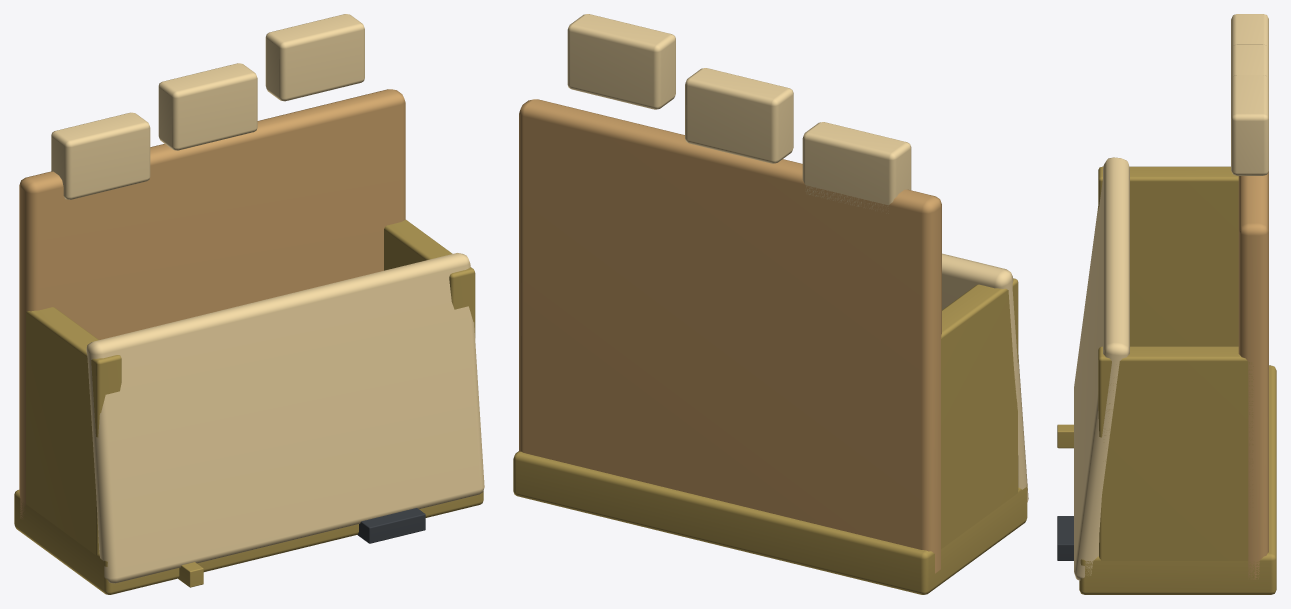
File: pcv_folder_fan_pocket.glb
3 renders of one model, left to right at view 1: azimuth 30°, elevation 25°; view 2: azimuth 150°, elevation 25°; view 3: azimuth 270°, elevation 25°, orthographic. The views are drawn at different scales.
Visible parts, largest first — view 1: pcv_folder_fan_pocket.open_front_pocket, pcv_folder_fan_pocket.folder_back, pcv_folder_fan_pocket.pocket_side, pcv_folder_fan_pocket.separate_stepped_tab.001, pcv_folder_fan_pocket.separate_stepped_tab.002, pcv_folder_fan_pocket.separate_stepped_tab, pcv_folder_fan_pocket.hollow_folder_foot, pcv_folder_fan_pocket.pocket_side.001, pcv_folder_fan_pocket.ordinary_telltale_offset_seam; view 2: pcv_folder_fan_pocket.folder_back, pcv_folder_fan_pocket.hollow_folder_foot, pcv_folder_fan_pocket.pocket_side, pcv_folder_fan_pocket.separate_stepped_tab.001, pcv_folder_fan_pocket.separate_stepped_tab.002, pcv_folder_fan_pocket.separate_stepped_tab, pcv_folder_fan_pocket.open_front_pocket; view 3: pcv_folder_fan_pocket.pocket_side.001, pcv_folder_fan_pocket.pocket_side, pcv_folder_fan_pocket.open_front_pocket, pcv_folder_fan_pocket.folder_back, pcv_folder_fan_pocket.hollow_folder_foot, pcv_folder_fan_pocket.separate_stepped_tab.002, pcv_folder_fan_pocket.separate_stepped_tab, pcv_folder_fan_pocket.separate_stepped_tab.001, pcv_folder_fan_pocket.ordinary_telltale_offset_seam, pcv_folder_fan_pocket.ordinary_telltale_contact_notch.
Part boxes in pixels (box(x1,y1,x2,y2)): pcv_folder_fan_pocket.open_front_pocket: box(86, 253, 484, 583); pcv_folder_fan_pocket.folder_back: box(19, 89, 405, 519); pcv_folder_fan_pocket.pocket_side: box(26, 307, 121, 554); pcv_folder_fan_pocket.separate_stepped_tab.001: box(158, 63, 257, 150); pcv_folder_fan_pocket.separate_stepped_tab.002: box(265, 14, 364, 101); pcv_folder_fan_pocket.separate_stepped_tab: box(51, 112, 150, 199); pcv_folder_fan_pocket.hollow_folder_foot: box(14, 490, 483, 594); pcv_folder_fan_pocket.pocket_side.001: box(384, 220, 475, 337); pcv_folder_fan_pocket.ordinary_telltale_offset_seam: box(357, 508, 425, 543); pcv_folder_fan_pocket.folder_back: box(519, 99, 941, 573); pcv_folder_fan_pocket.hollow_folder_foot: box(513, 451, 1027, 594); pcv_folder_fan_pocket.pocket_side: box(941, 278, 1018, 548); pcv_folder_fan_pocket.separate_stepped_tab.001: box(685, 68, 793, 163); pcv_folder_fan_pocket.separate_stepped_tab.002: box(567, 14, 675, 109); pcv_folder_fan_pocket.separate_stepped_tab: box(802, 122, 911, 213); pcv_folder_fan_pocket.open_front_pocket: box(942, 253, 1028, 503); pcv_folder_fan_pocket.pocket_side.001: box(1098, 346, 1253, 560); pcv_folder_fan_pocket.pocket_side: box(1098, 166, 1238, 346); pcv_folder_fan_pocket.open_front_pocket: box(1074, 157, 1129, 580); pcv_folder_fan_pocket.folder_back: box(1238, 171, 1268, 579); pcv_folder_fan_pocket.hollow_folder_foot: box(1079, 365, 1276, 594); pcv_folder_fan_pocket.separate_stepped_tab.002: box(1231, 75, 1268, 175); pcv_folder_fan_pocket.separate_stepped_tab: box(1231, 14, 1268, 49); pcv_folder_fan_pocket.separate_stepped_tab.001: box(1231, 44, 1268, 79); pcv_folder_fan_pocket.ordinary_telltale_offset_seam: box(1057, 516, 1073, 560); pcv_folder_fan_pocket.ordinary_telltale_contact_notch: box(1057, 424, 1073, 448).
Size of the model in its own units: 1.2 by 1.33 by 0.5777.
